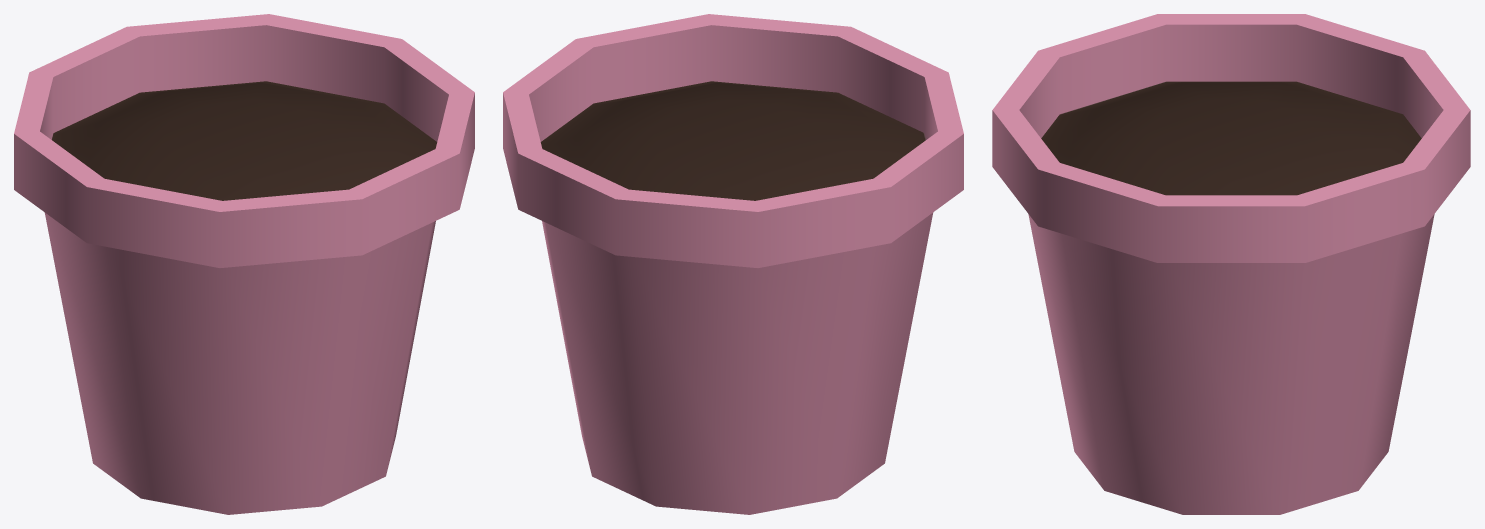
Rendered from furniture_garden_210045.glb.
The picture shows the model from 3 angles, left to right: view 1: azimuth 30°, elevation 25°; view 2: azimuth 150°, elevation 25°; view 3: azimuth 270°, elevation 25°; orthographic projection.
Visible parts, largest first — view 1: furniture_garden_210045; view 2: furniture_garden_210045; view 3: furniture_garden_210045.
Boxes of the visible parts, <box> form: furniture_garden_210045: <box>14,14,474,514</box>; furniture_garden_210045: <box>503,14,963,514</box>; furniture_garden_210045: <box>992,14,1470,514</box>.
Bounding box in the file's own units: 0.4341 × 0.36 × 0.4564.
Materials: 1 (1 with a texture image).
